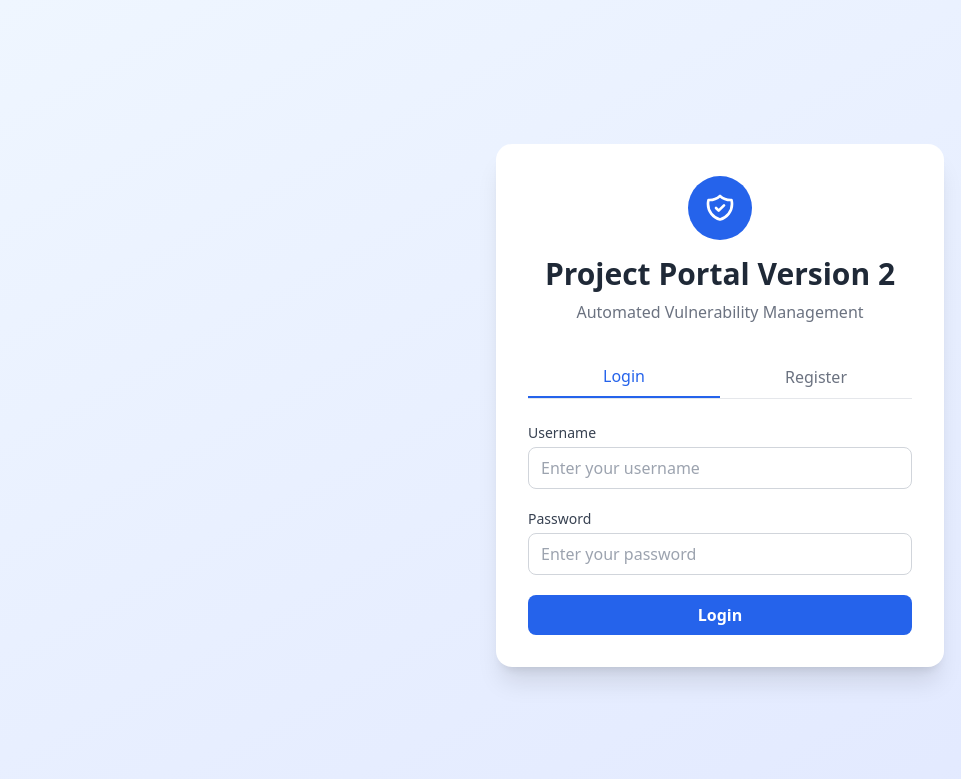
Test: LoginPage › registration › can switch back to the login form
Click the button "Register": (816, 376) x1=720 y1=356 x2=912 y2=398
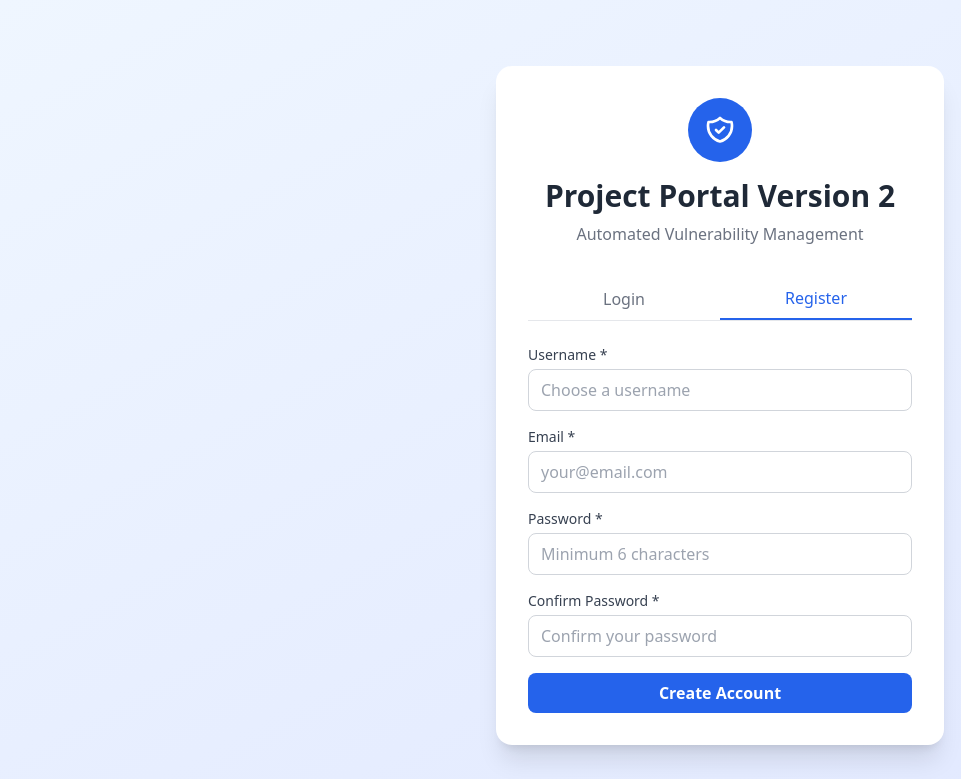
Click the button "Login": (624, 298) x1=528 y1=278 x2=720 y2=320
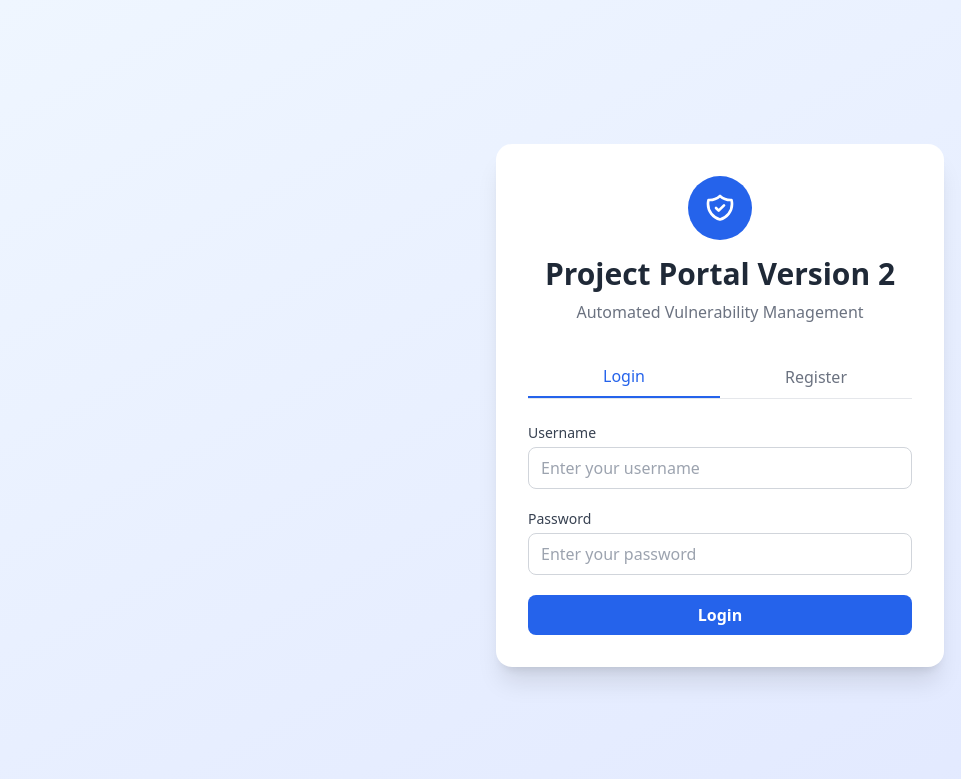
Check: the field with placeholder "Enter your username" is shown, box x1=528 y1=446 x2=912 y2=488
